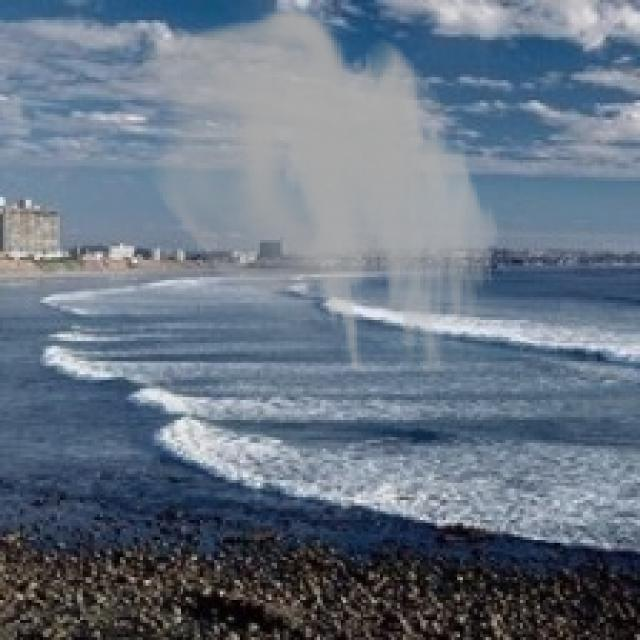smoke: (140, 9, 503, 374)
